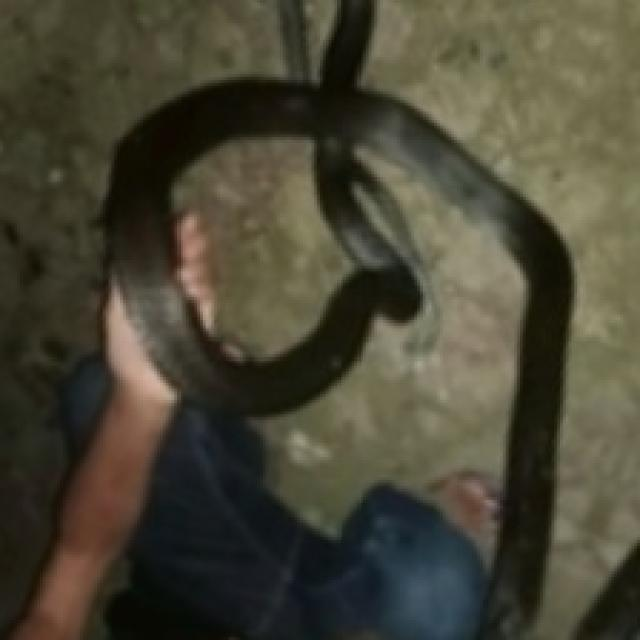king cobra: (106, 0, 571, 637), (171, 134, 354, 357)
